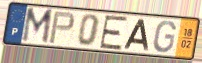0: (77, 13, 101, 48)
A: (122, 18, 150, 52)
E: (98, 14, 130, 51)
G: (152, 20, 178, 54)
M: (19, 7, 54, 47)
P: (47, 10, 76, 45)
